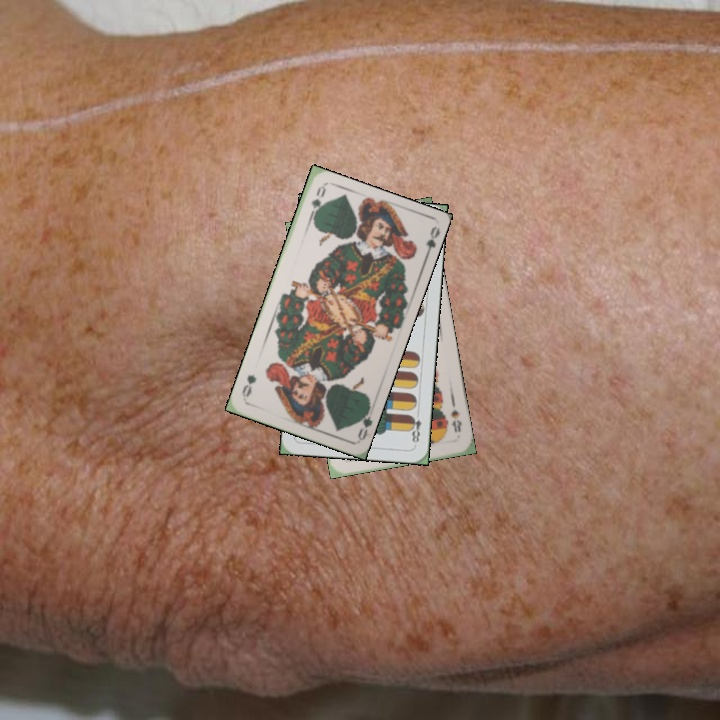E8: (406, 407, 424, 445)
GO: (305, 183, 328, 224), (352, 401, 374, 442)
S8: (446, 405, 464, 435)
